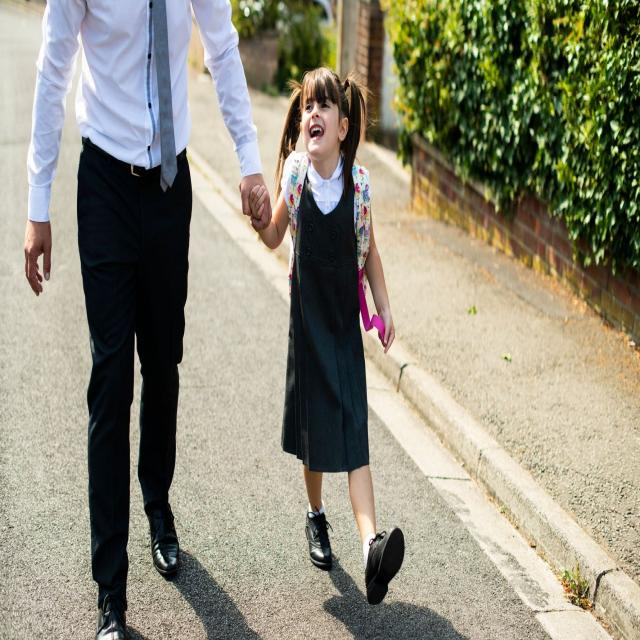Person: (25, 0, 272, 639), (249, 67, 405, 603)
